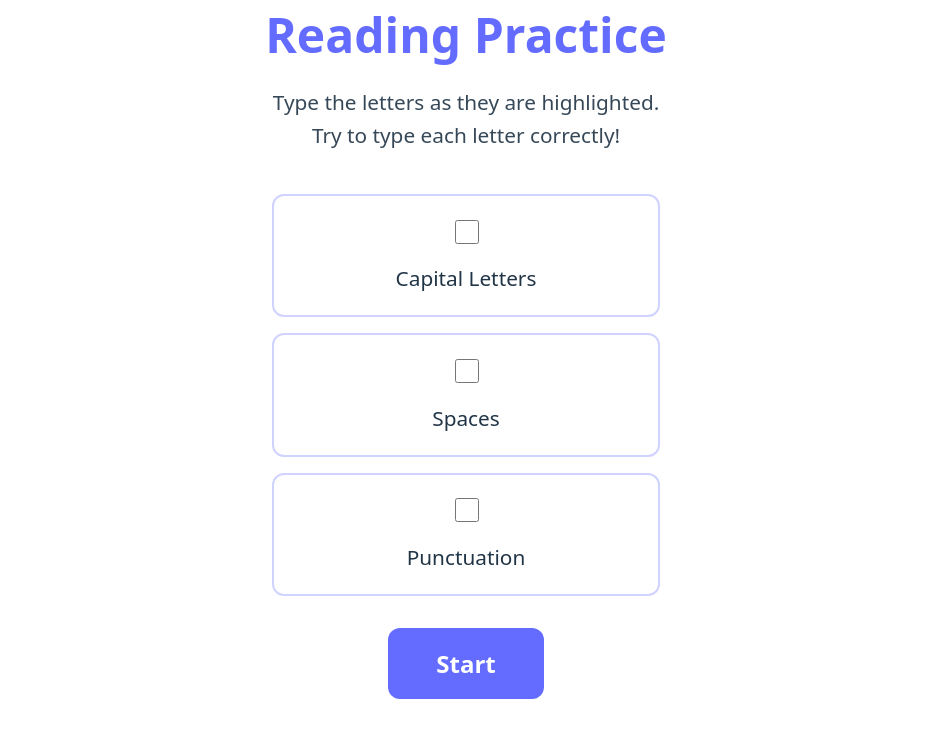
Test case: ReadingMode › Typing Game › should show live score with thumbs up and down
Click the button "Start" at (466, 664), box [388, 628, 544, 699]
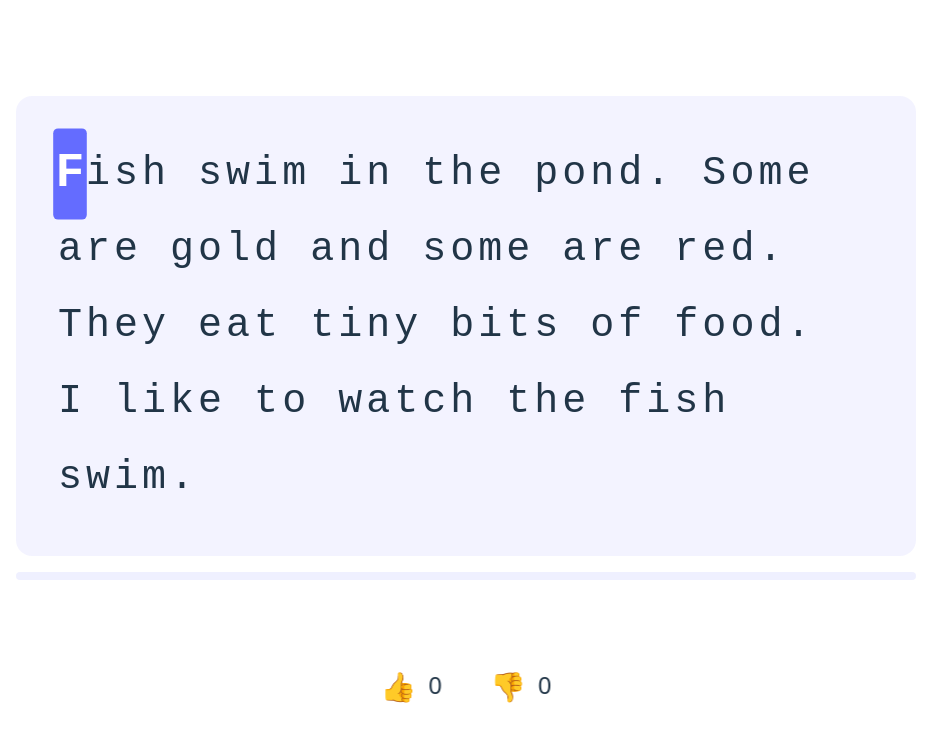
Result: the element with class "live-score" is shown at [344, 644, 588, 726]
Result: the element with class "live-score" shows "0" at [428, 668, 442, 701]
